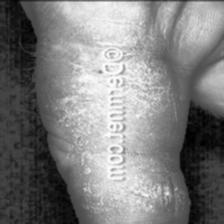Non-Cancerous Skin Condition: (126, 48, 178, 224), (56, 48, 103, 188)
